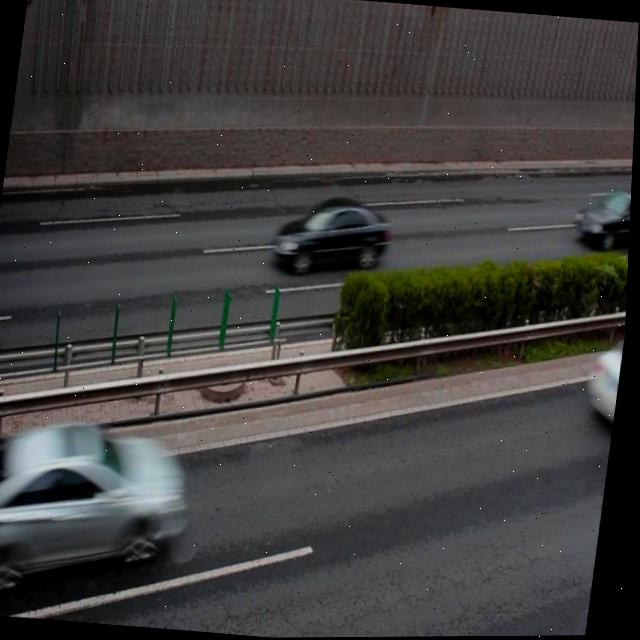car: (0, 416, 192, 606), (273, 196, 391, 277), (570, 185, 633, 251)
